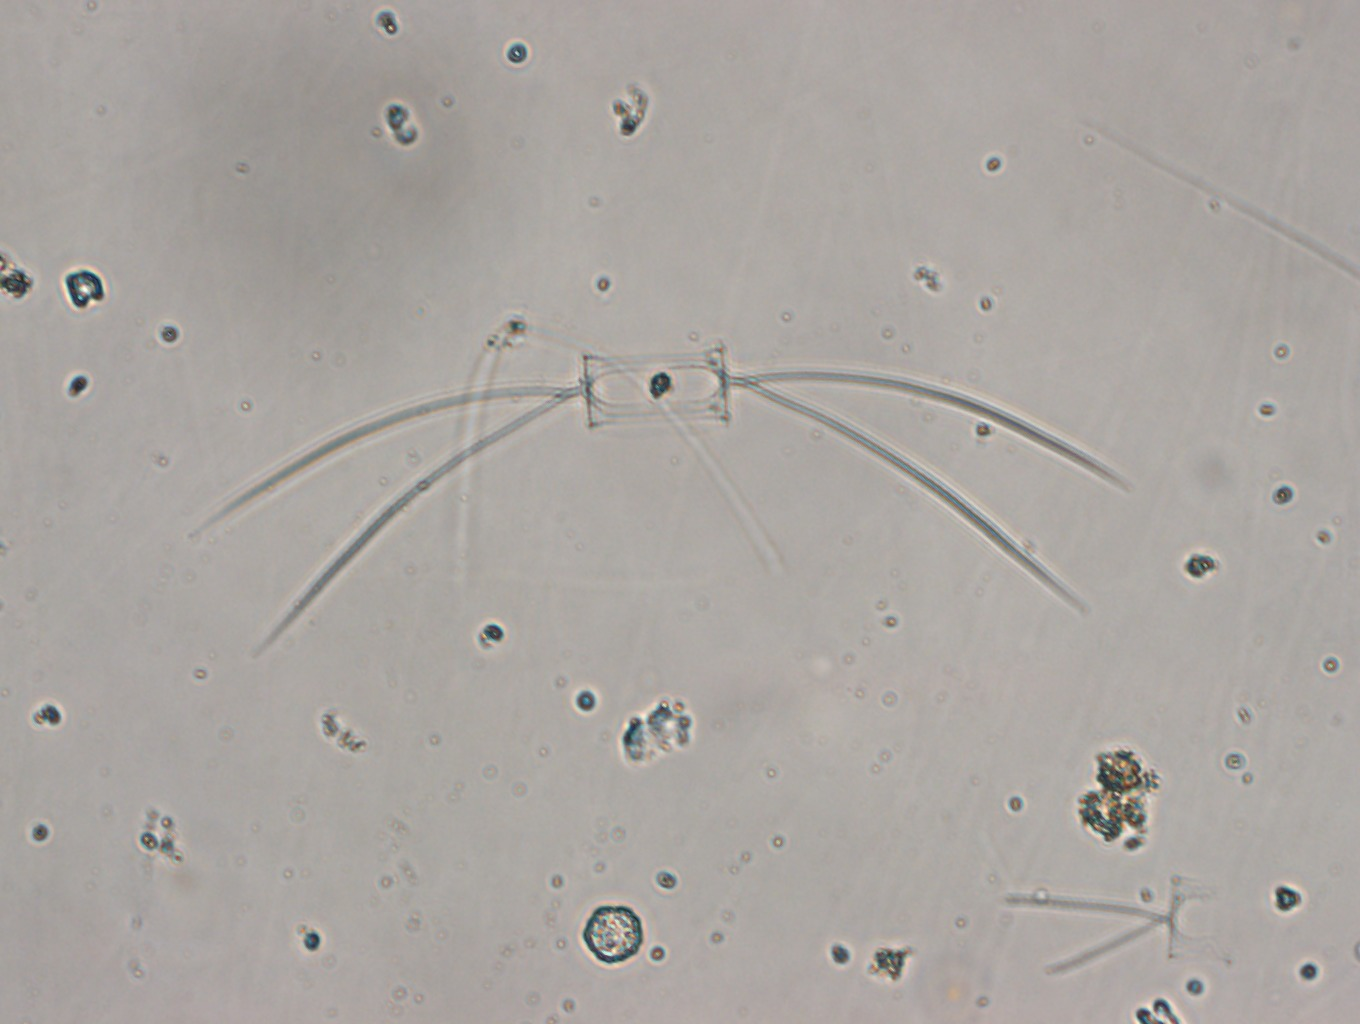chaetoceros: (206, 338, 1143, 648)
